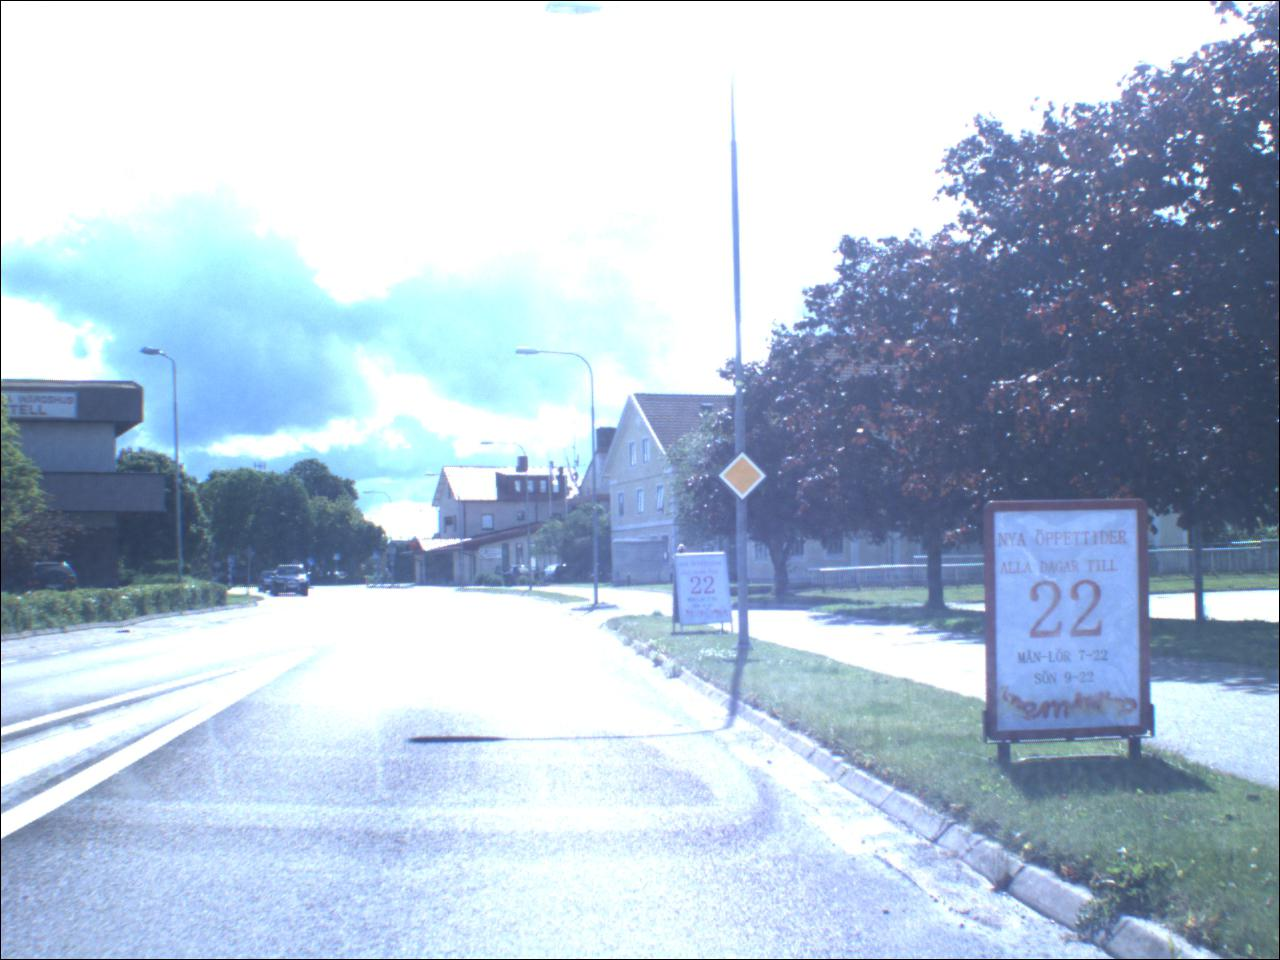PASS_RIGHT_SIDE: (307, 559, 317, 569)
PEDESTRIAN_CROSSING: (374, 553, 383, 562), (229, 557, 238, 566), (336, 555, 343, 563)
PRIORITY_ROAD: (720, 454, 773, 503)
